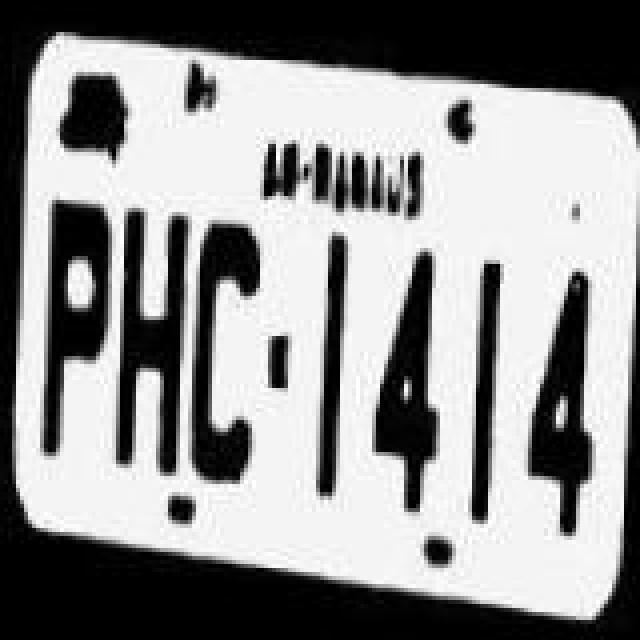1: (298, 226, 362, 502), (460, 256, 512, 520)
4: (516, 246, 600, 534), (368, 234, 452, 518)
C: (184, 210, 268, 490)
H: (104, 190, 192, 490)
P: (26, 190, 118, 482)
